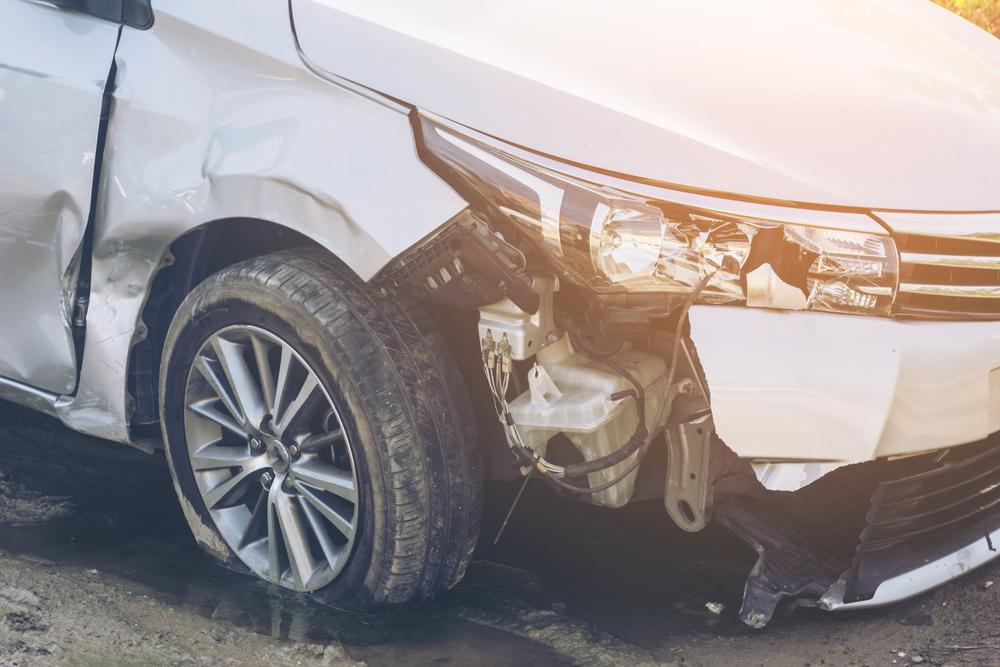dent: (88, 54, 362, 364), (0, 193, 83, 377)
lamp broken: (409, 110, 900, 318)
scratch: (59, 387, 121, 434)
